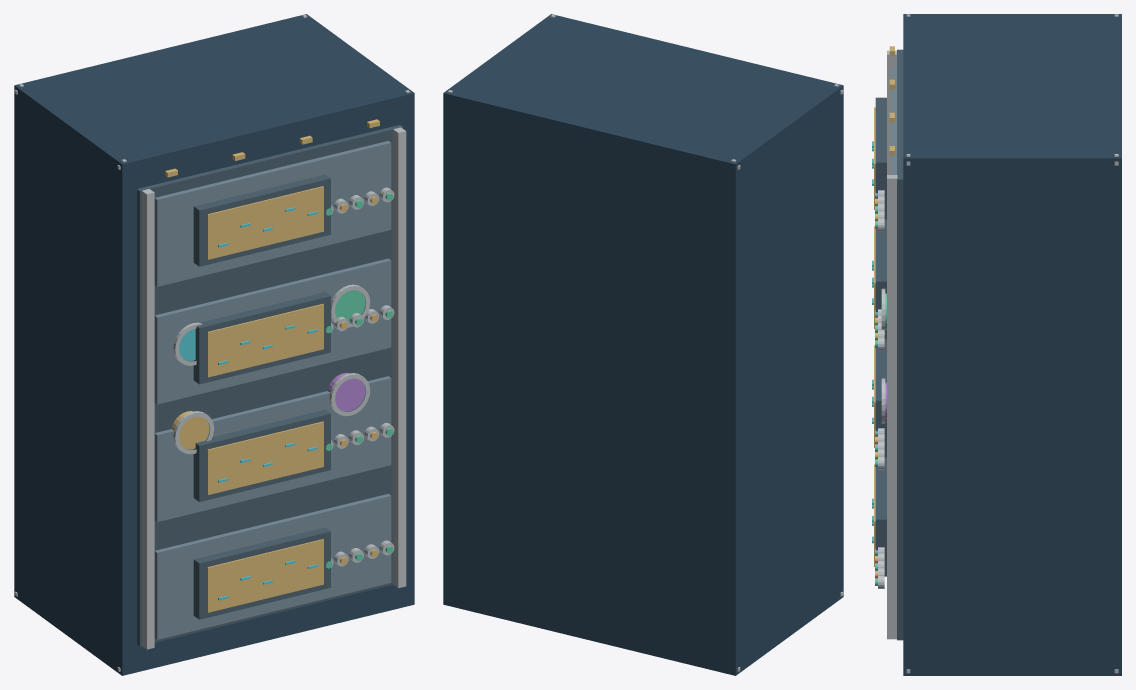
The model's file is 09_L80_MultiWavelengthLaserSourceRack.glb.
3 views of the same model, side by side, from view 1: azimuth 30°, elevation 25°; view 2: azimuth 150°, elevation 25°; view 3: azimuth 270°, elevation 25° (orthographic).
Parts seen in each view (by area): view 1: MultiWavelengthLaserSourceRack_Node_0000, MultiWavelengthLaserSourceRack_Node_0009, MultiWavelengthLaserSourceRack_Node_0010, MultiWavelengthLaserSourceRack_Node_0064, MultiWavelengthLaserSourceRack_Node_0028, MultiWavelengthLaserSourceRack_Node_0046, MultiWavelengthLaserSourceRack_Node_0083, MultiWavelengthLaserSourceRack_Node_0082, MultiWavelengthLaserSourceRack_Node_0066, MultiWavelengthLaserSourceRack_Node_0012, MultiWavelengthLaserSourceRack_Node_0030, MultiWavelengthLaserSourceRack_Node_0048 (+8 smaller); view 2: MultiWavelengthLaserSourceRack_Node_0000; view 3: MultiWavelengthLaserSourceRack_Node_0000, MultiWavelengthLaserSourceRack_Node_0083, MultiWavelengthLaserSourceRack_Node_0009, MultiWavelengthLaserSourceRack_Node_0011, MultiWavelengthLaserSourceRack_Node_0065, MultiWavelengthLaserSourceRack_Node_0029, MultiWavelengthLaserSourceRack_Node_0047, MultiWavelengthLaserSourceRack_Node_0082, MultiWavelengthLaserSourceRack_Node_0010.
Boxes of the visible parts, x1=… form: MultiWavelengthLaserSourceRack_Node_0000: x1=14, y1=14, x2=414, y2=675; MultiWavelengthLaserSourceRack_Node_0009: x1=137, y1=125, x2=402, y2=646; MultiWavelengthLaserSourceRack_Node_0010: x1=154, y1=141, x2=391, y2=286; MultiWavelengthLaserSourceRack_Node_0064: x1=154, y1=494, x2=391, y2=639; MultiWavelengthLaserSourceRack_Node_0028: x1=154, y1=258, x2=391, y2=404; MultiWavelengthLaserSourceRack_Node_0046: x1=154, y1=376, x2=391, y2=521; MultiWavelengthLaserSourceRack_Node_0083: x1=393, y1=127, x2=406, y2=588; MultiWavelengthLaserSourceRack_Node_0082: x1=142, y1=189, x2=154, y2=649; MultiWavelengthLaserSourceRack_Node_0066: x1=207, y1=539, x2=323, y2=612; MultiWavelengthLaserSourceRack_Node_0012: x1=207, y1=186, x2=323, y2=259; MultiWavelengthLaserSourceRack_Node_0030: x1=207, y1=304, x2=323, y2=377; MultiWavelengthLaserSourceRack_Node_0048: x1=207, y1=421, x2=323, y2=494; MultiWavelengthLaserSourceRack_Node_0000: x1=443, y1=14, x2=843, y2=675; MultiWavelengthLaserSourceRack_Node_0000: x1=903, y1=14, x2=1121, y2=675; MultiWavelengthLaserSourceRack_Node_0083: x1=887, y1=175, x2=897, y2=639; MultiWavelengthLaserSourceRack_Node_0009: x1=897, y1=49, x2=903, y2=640; MultiWavelengthLaserSourceRack_Node_0011: x1=875, y1=97, x2=886, y2=219; MultiWavelengthLaserSourceRack_Node_0065: x1=875, y1=457, x2=886, y2=576; MultiWavelengthLaserSourceRack_Node_0029: x1=875, y1=219, x2=886, y2=338; MultiWavelengthLaserSourceRack_Node_0047: x1=875, y1=340, x2=886, y2=457; MultiWavelengthLaserSourceRack_Node_0082: x1=887, y1=50, x2=896, y2=174; MultiWavelengthLaserSourceRack_Node_0010: x1=891, y1=67, x2=896, y2=174.
Bounding box in the file's own units: 2.27 × 3.78 × 1.65.
